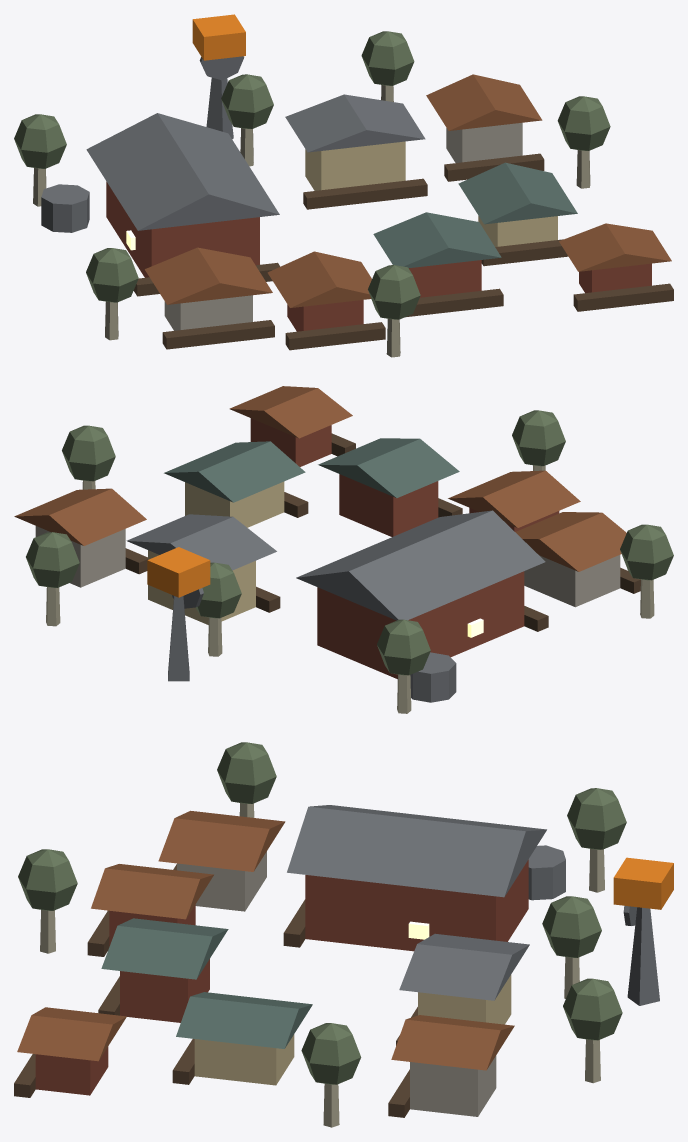
Rendered from overworld-settlement-oceanian-rural.glb.
The picture shows the model from 3 angles, top to bottom: view 1: azimuth 30°, elevation 25°; view 2: azimuth 150°, elevation 25°; view 3: azimuth 270°, elevation 25°; orthographic projection. The views are drawn at different scales.
Visible parts, largest first — view 1: settlement; view 2: settlement; view 3: settlement.
Boxes of the visible parts, bbox=[...] form: settlement: bbox=[14, 14, 673, 357]; settlement: bbox=[14, 386, 673, 713]; settlement: bbox=[14, 742, 673, 1127].
Size of the model in its own units: 0.5141 by 0.101 by 0.4686.
